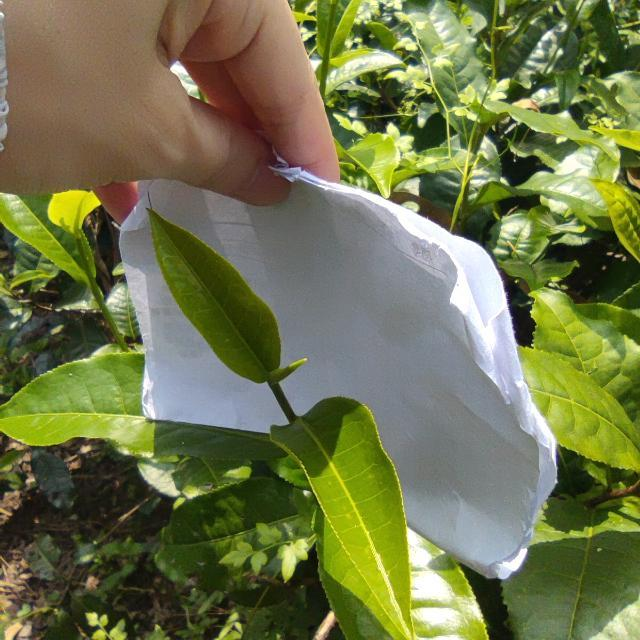Stem: (274, 390, 293, 414)
